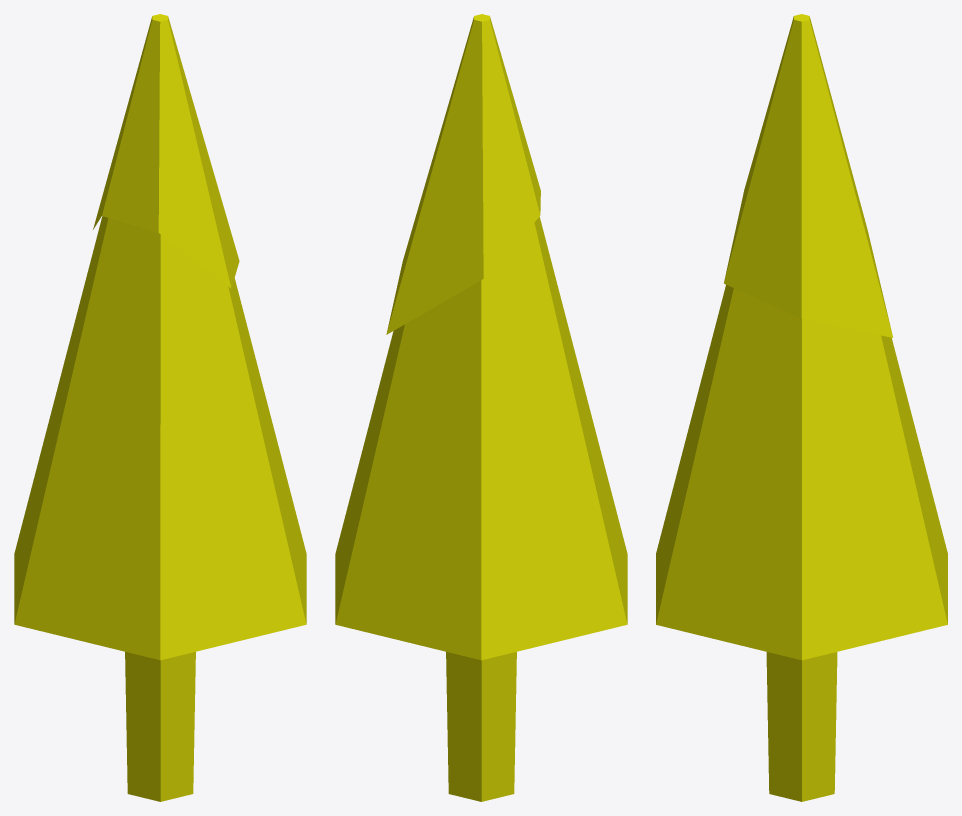
3 renders of one model, left to right at view 1: azimuth 30°, elevation 25°; view 2: azimuth 150°, elevation 25°; view 3: azimuth 270°, elevation 25°, orthographic.
Parts seen in each view (by area): view 1: tree1; view 2: tree1; view 3: tree1.
Boxes of the visible parts, x1,y1,x2,y2 form: tree1: (14,14,306,801); tree1: (335,14,627,801); tree1: (656,14,947,801).
Bounding box in the file's own units: 0.673 × 1.69 × 0.5829.
Materials: 1 (1 with a texture image).
